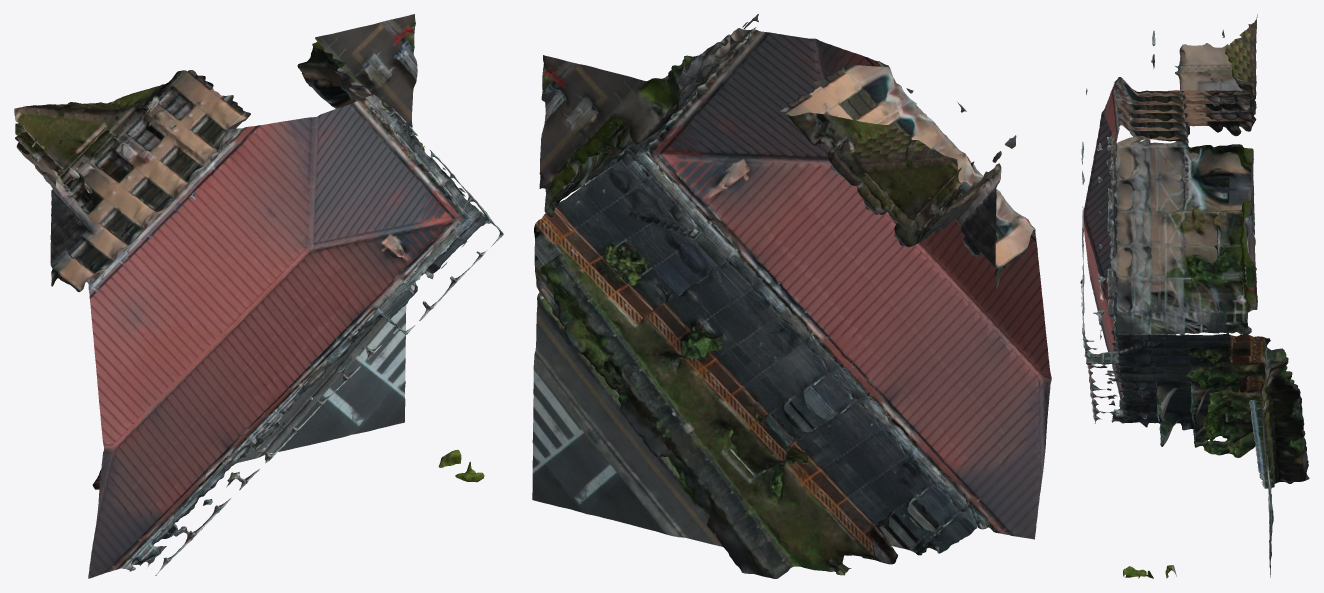
Rendered from Tile_+010_+011.fbx.
3 renders of one model, left to right at view 1: azimuth 30°, elevation 25°; view 2: azimuth 150°, elevation 25°; view 3: azimuth 270°, elevation 25°, orthographic. The views are drawn at different scales.
Visible parts, largest first — view 1: DefaultName; view 2: DefaultName; view 3: DefaultName.
Part boxes in pixels (left/top/right/bottom): DefaultName: left=14, top=14, right=503, bottom=578; DefaultName: left=532, top=14, right=1051, bottom=578; DefaultName: left=1080, top=14, right=1309, bottom=578.
Bounding box in the file's own units: 22.54 × 22.54 × 12.15.
